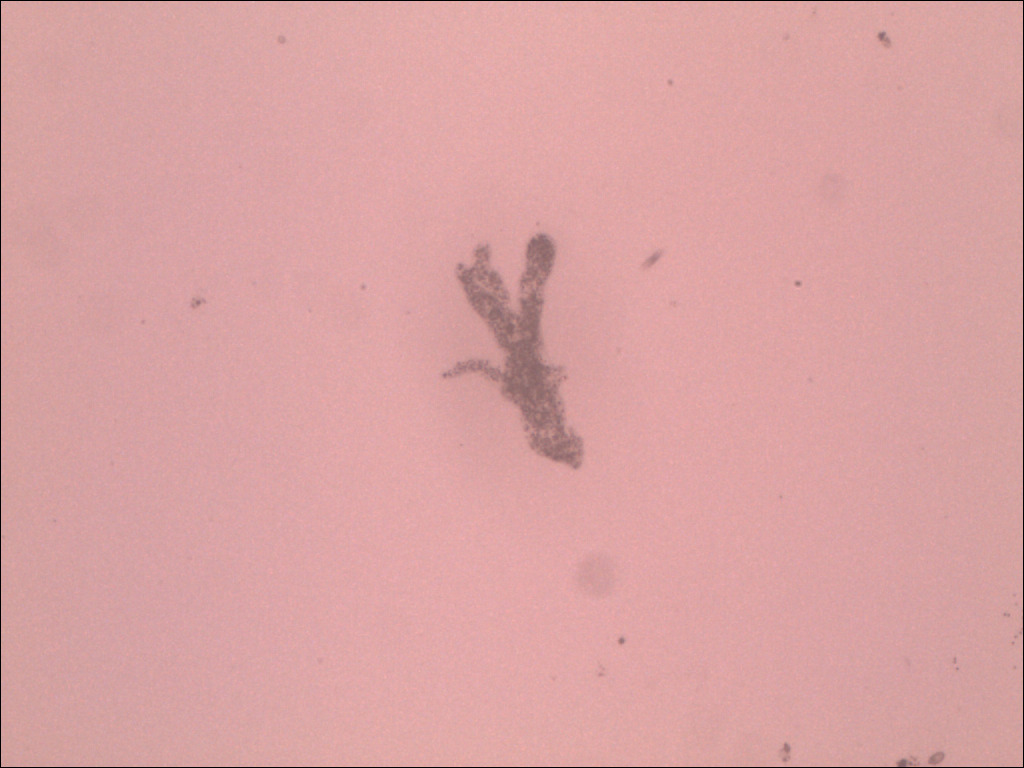amoeba: (437, 227, 608, 480)
